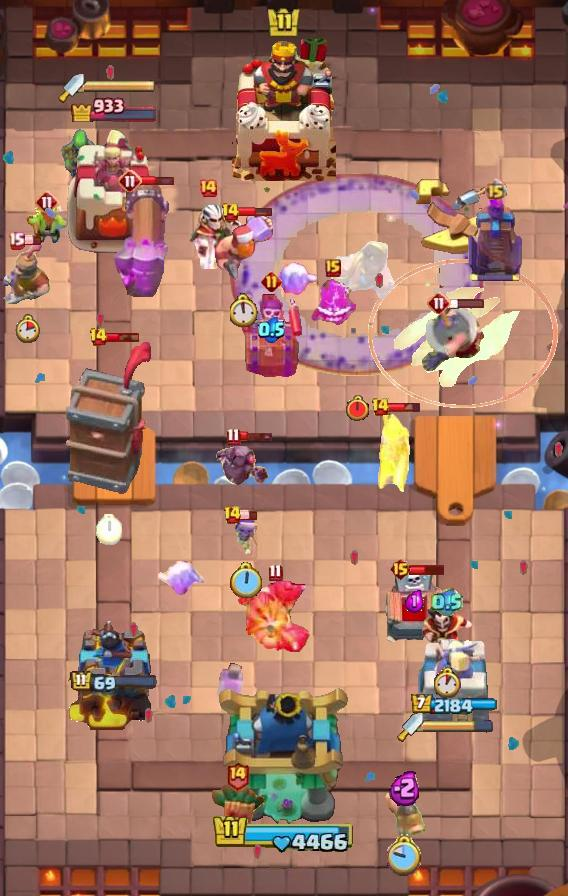bar: (64, 124, 164, 256), (416, 637, 490, 731)
battle-ram: (211, 441, 271, 489)
bomb-tower: (374, 407, 412, 505)
clock: (212, 813, 356, 855)
dart-goblin: (64, 340, 154, 496)
earthquake: (3, 240, 51, 304)
electro-spirit: (390, 769, 423, 806), (431, 588, 463, 616), (258, 317, 285, 344), (404, 589, 423, 613)
elixir: (387, 834, 423, 876), (230, 563, 264, 602), (432, 667, 463, 699), (229, 293, 258, 327), (96, 515, 122, 546), (16, 313, 41, 342), (346, 394, 371, 421)
elixir-golem-mid: (379, 565, 449, 651)
emote: (409, 564, 446, 577), (140, 174, 176, 187), (449, 297, 485, 309), (105, 331, 141, 343), (238, 430, 274, 442), (387, 401, 422, 413), (237, 206, 273, 217), (22, 234, 42, 245), (239, 511, 258, 522)
executioner: (384, 788, 426, 838)
freeze: (325, 238, 399, 310)
furnace: (112, 183, 174, 297)
giant-snowball: (60, 127, 100, 185)
goblin: (232, 514, 262, 556)
goblin-barrel: (208, 784, 266, 850)
ice-spirit-evolution-symbol: (465, 191, 525, 283)
ice-wizard: (368, 259, 558, 409)
king-tower: (216, 684, 352, 826), (232, 39, 336, 181)
king-tower-bar: (84, 80, 156, 94), (423, 720, 493, 734)
knight-evolution: (216, 663, 245, 702)
lumberjack: (419, 602, 475, 660)
mighty-miner: (212, 213, 276, 283)
mirror: (270, 261, 320, 299), (154, 559, 204, 597)
monk: (420, 307, 486, 373)
queen-tower: (66, 617, 162, 731)
rocket: (229, 172, 485, 376)
royal-guardian: (237, 578, 313, 656)
selected: (69, 94, 158, 122), (70, 670, 158, 694), (411, 694, 498, 716)
skeleton-king: (171, 203, 245, 269)
skeleton-king-bar: (240, 291, 302, 377)
spear-goblin: (307, 278, 359, 332)
text: (225, 760, 250, 791), (118, 169, 142, 193), (35, 190, 59, 214), (427, 291, 451, 315), (388, 557, 411, 581), (484, 179, 507, 202), (261, 271, 282, 293), (198, 178, 218, 198), (370, 397, 390, 417), (221, 202, 240, 222), (88, 327, 107, 347), (223, 505, 242, 525), (7, 231, 25, 249), (325, 259, 341, 277), (268, 563, 283, 581), (227, 427, 241, 445)
zap: (24, 204, 70, 246)
